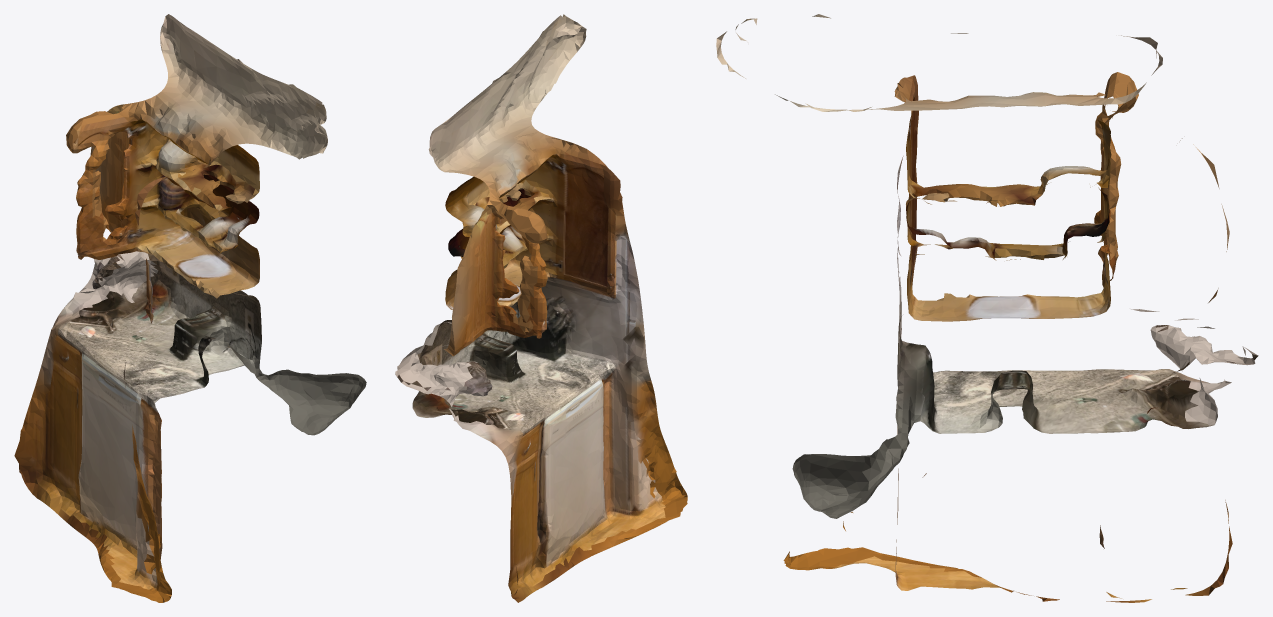
The model's file is cabinet_7.glb.
The picture shows the model from 3 angles, left to right: view 1: azimuth 30°, elevation 25°; view 2: azimuth 150°, elevation 25°; view 3: azimuth 270°, elevation 25°; orthographic projection. The views are drawn at different scales.
Bounding box in the file's own units: 1.34 × 2.67 × 1.97.
Materials: 1 (1 with a texture image).
